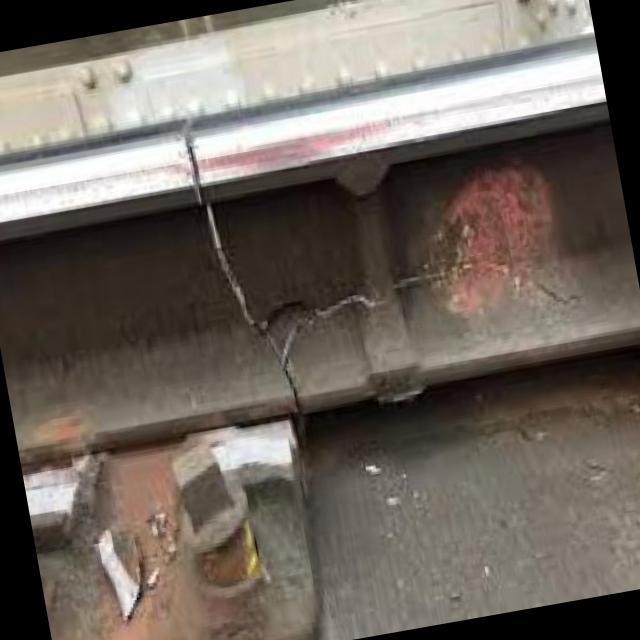defective: (58, 27, 608, 504)
